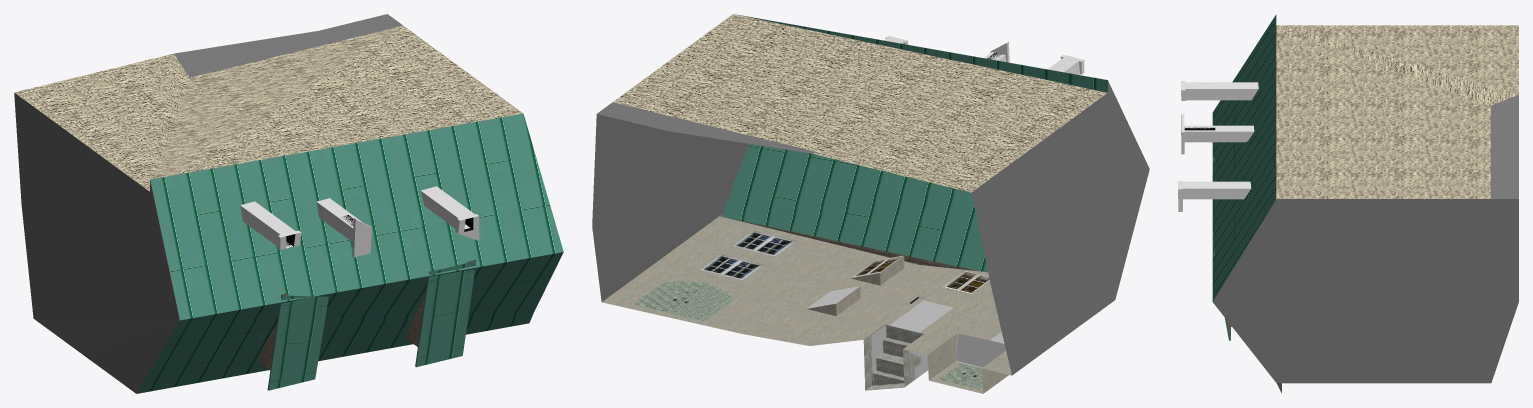
The model's file is Myyrivahe_35-origo.obj.
The picture shows the model from 3 angles, left to right: view 1: azimuth 30°, elevation 25°; view 2: azimuth 150°, elevation 25°; view 3: azimuth 270°, elevation 25°; orthographic projection. The views are drawn at different scales.
Visible parts, largest first — view 1: Myyrivahe_35; view 2: Myyrivahe_35; view 3: Myyrivahe_35.
Part boxes in pixels (x1=…): Myyrivahe_35: x1=14, y1=14, x2=563, y2=393; Myyrivahe_35: x1=592, y1=14, x2=1149, y2=393; Myyrivahe_35: x1=1178, y1=14, x2=1518, y2=393.
Size of the model in its own units: 16.38 by 10.5 by 13.74.
